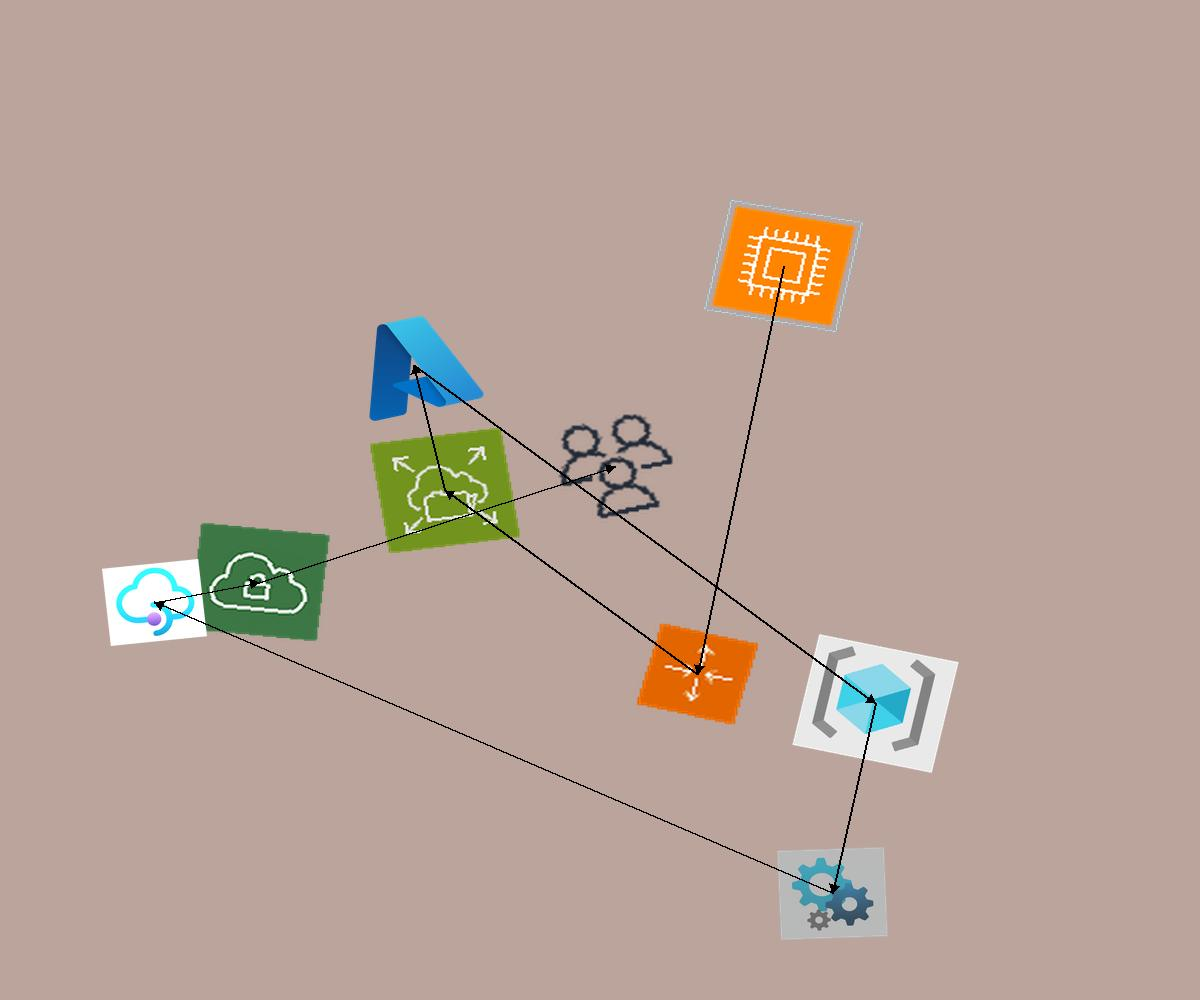AWS-Category_Compute: (702, 198, 865, 334)
AWS-EFS: (369, 427, 521, 554)
AWS-Private_vpc: (187, 522, 331, 642)
AWS-Res_Users: (538, 402, 693, 531)
AWS-Scaling-group: (635, 622, 760, 726)
Azure_api: (777, 847, 888, 940)
Azure_api_gateway: (102, 559, 207, 646)
Azure_resource_group: (792, 634, 959, 773)
Azure_services: (336, 300, 492, 430)
